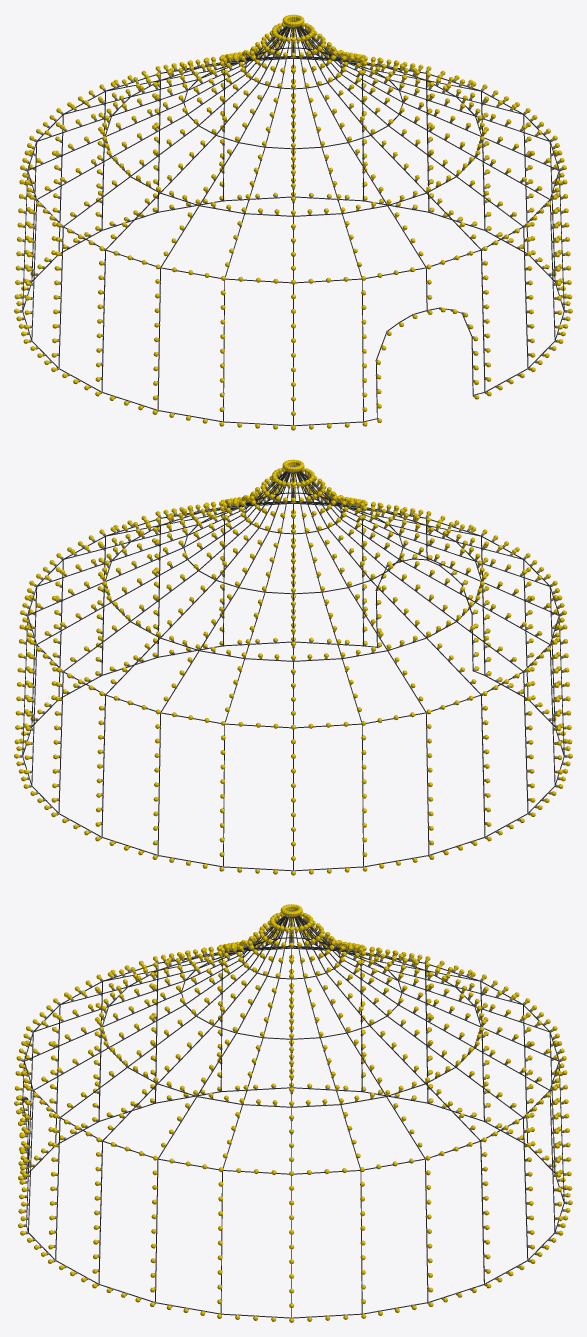
File: CircusLights.fbx
3 views of the same model, one above another, from view 1: azimuth 30°, elevation 25°; view 2: azimuth 150°, elevation 25°; view 3: azimuth 270°, elevation 25° (orthographic).
Parts seen in each view (by area): view 1: TENTLIGHTSEXPORT; view 2: TENTLIGHTSEXPORT; view 3: TENTLIGHTSEXPORT.
Boxes of the visible parts, x1,y1,x2,y2 form: TENTLIGHTSEXPORT: (14,14,572,430); TENTLIGHTSEXPORT: (14,459,572,875); TENTLIGHTSEXPORT: (14,904,572,1322).
Bounding box in the file's own units: 1516 × 883 × 1506.
